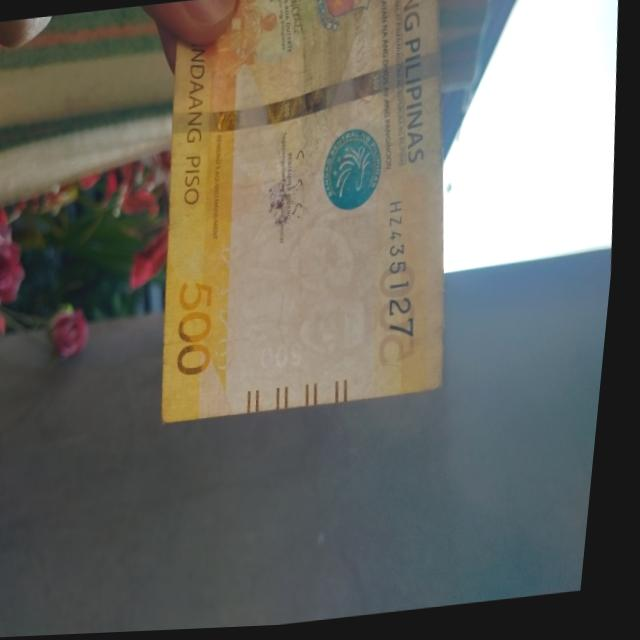security_thread: (170, 53, 448, 145)
see_through_mark: (202, 225, 259, 394)
serial_number: (376, 185, 438, 362)
value_watermark: (256, 335, 318, 380)
watermark: (226, 209, 399, 378)
